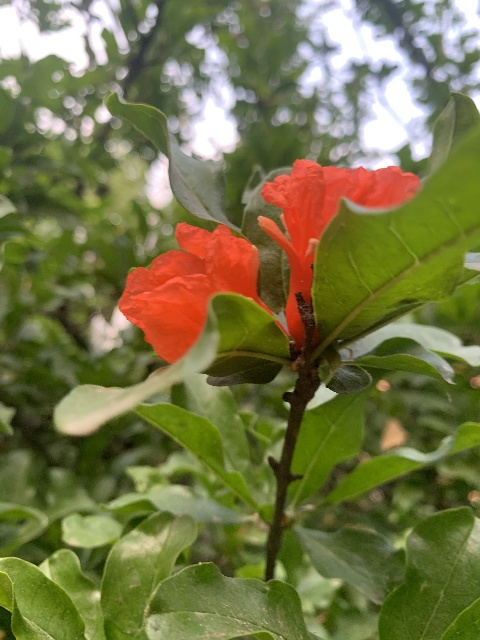flower: (257, 157, 420, 351), (118, 222, 286, 364)
